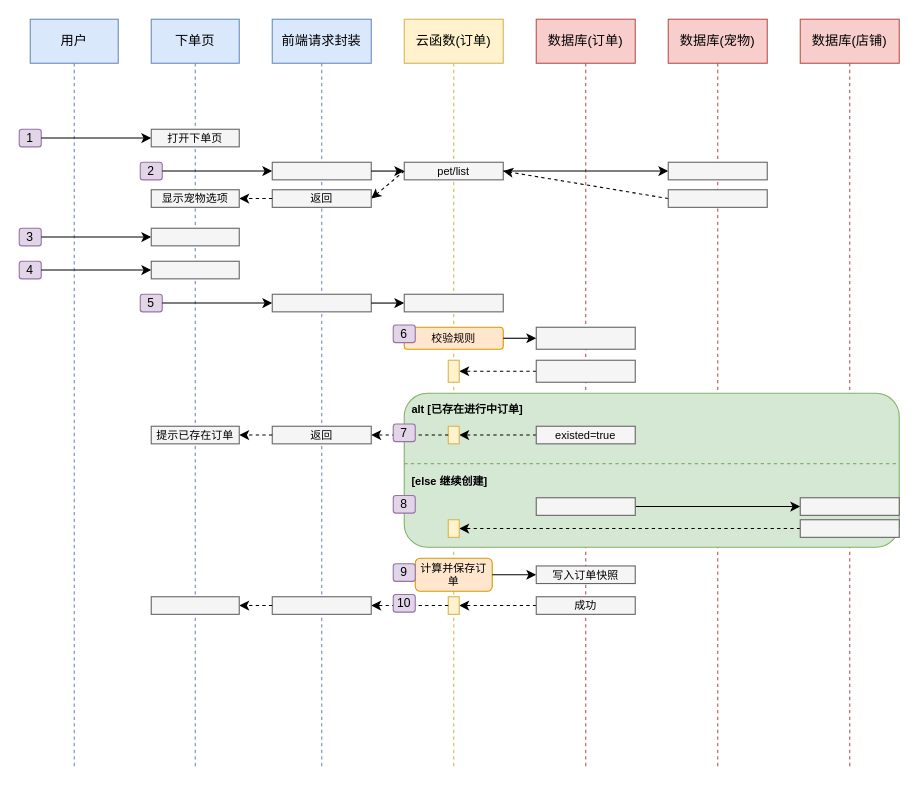
This 919x787 diagram has some shape labels left out. Each missing label, with the centre of its shape:
order/create: point 453,302
shops.prices: point 849,506
创建订单: point 321,302
查询宠物: point 717,170
查询店铺价格: point 585,506
查询进行中订单: point 585,337
点击提交: point 194,269
获取宠物列表: point 321,170
跳转订单详情: point 194,605
返回价格: point 849,528
返回列表: point 717,198
返回结果: point 585,370
返回订单ID: point 321,605
选择宠物与日期: point 194,236
